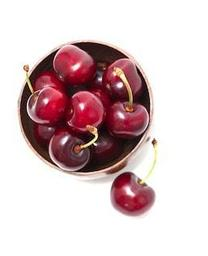cherry: (109, 171, 156, 217), (53, 45, 98, 88), (48, 128, 90, 173), (105, 101, 149, 138), (102, 60, 143, 99), (26, 88, 67, 126), (65, 92, 104, 131)
